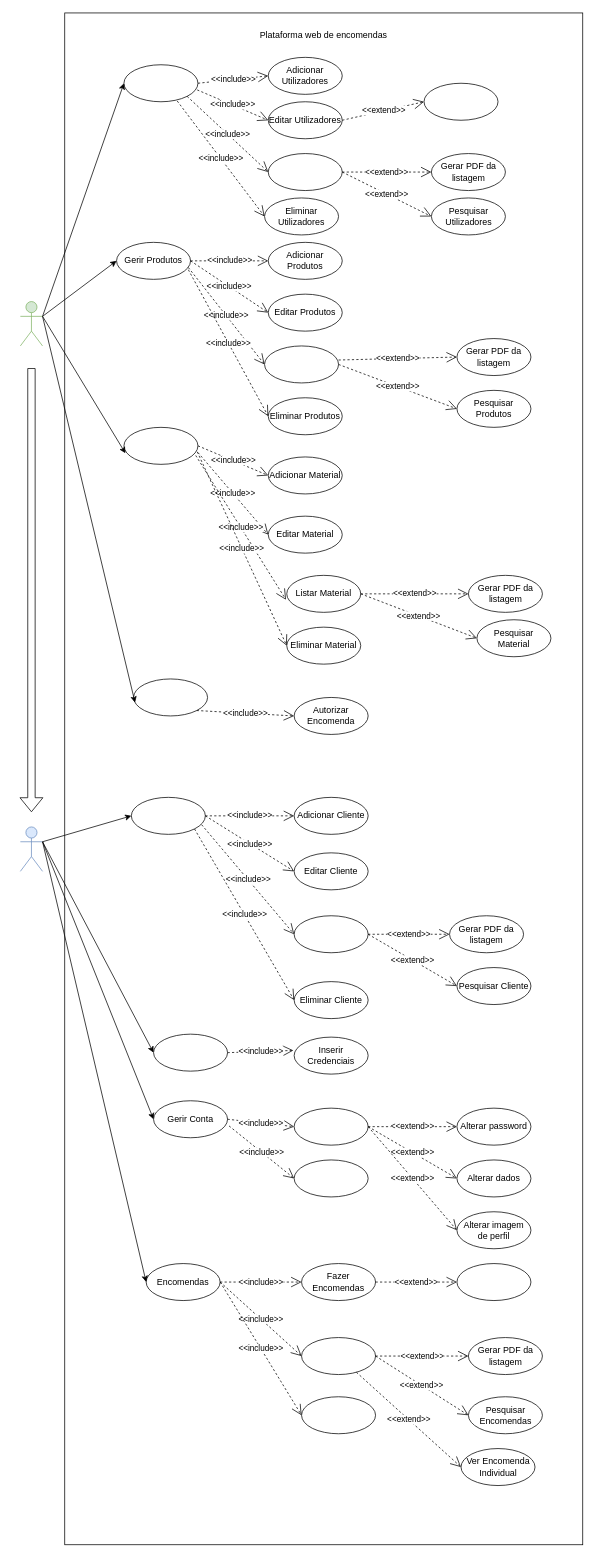
Some shapes in this 596 by 1558 pixel diagram are drawn without their labels. The centre of each missing label's shape, as x and y in pixels:
Alterar papel do Utilizador: (x=460, y=101)
Apagar Conta: (x=330, y=1178)
Editar Perfil: (x=330, y=1126)
Eliminar Encomendas: (x=338, y=1415)
Fazer Login: (x=190, y=1052)
Gerar PDF da Encomenda: (x=493, y=1282)
Gerir Clientes: (x=168, y=815)
Gerir Encomendas: (x=170, y=697)
Gerir Material de Apoio: (x=160, y=445)
Gerir Utilizadores: (x=160, y=83)
Gestor: (x=31, y=323)
Listar Clientes: (x=330, y=934)
Listar Encomendas: (x=338, y=1356)
Listar Produtos: (x=301, y=364)
Listar Utilizadores: (x=305, y=172)
Utilizador: (x=31, y=848)
